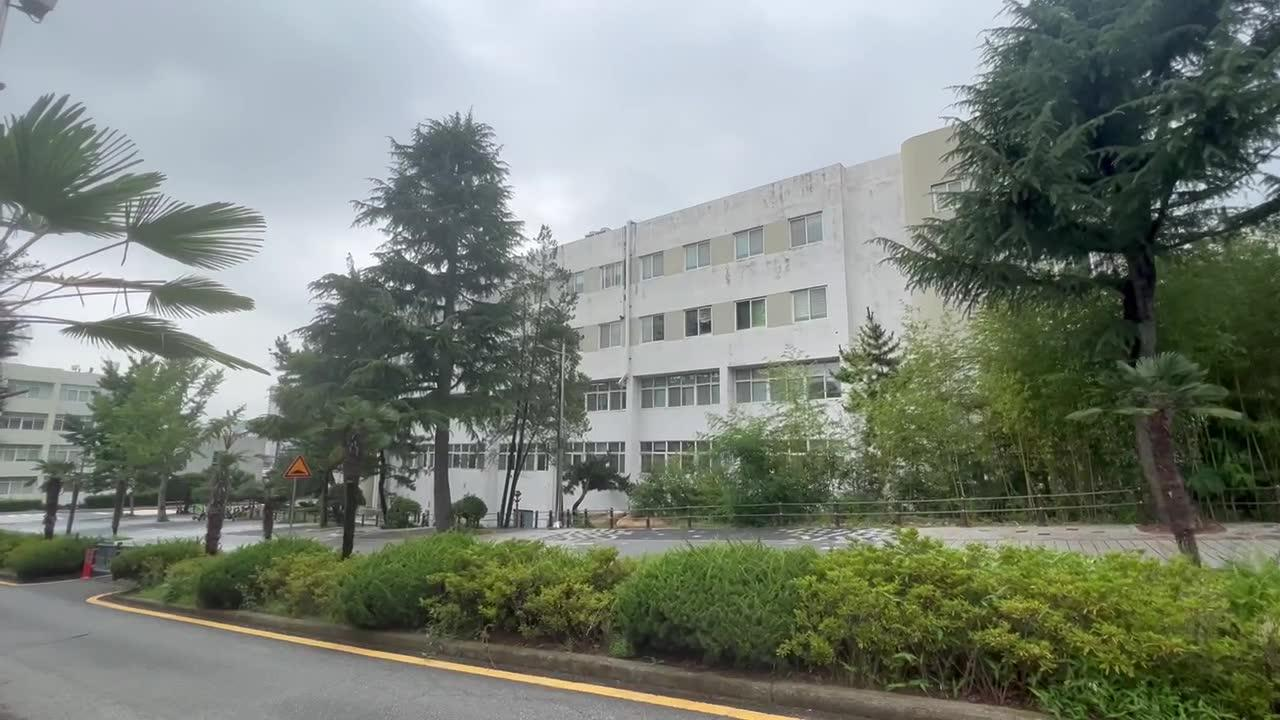building: (589, 177, 858, 439)
